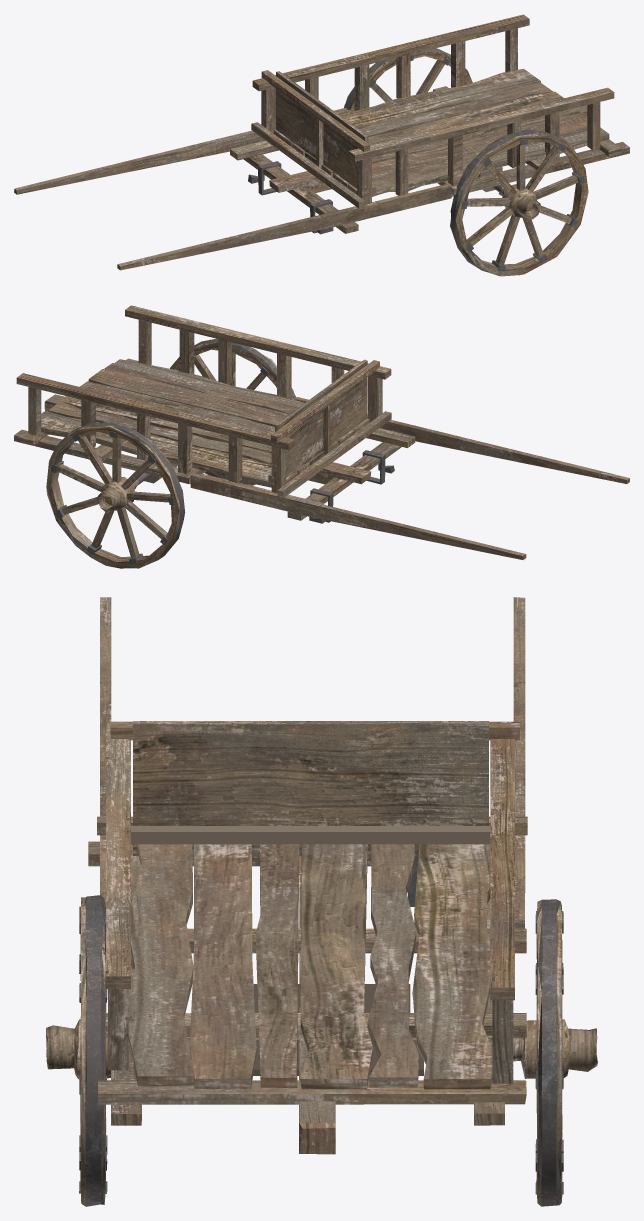
The model's file is SM_Cart_Small.fbx.
3 renders of one model, top to bottom at view 1: azimuth 30°, elevation 25°; view 2: azimuth 150°, elevation 25°; view 3: azimuth 270°, elevation 25°, orthographic. The views are drawn at different scales.
Visible parts, largest first — view 1: SM_Cart_Small_LOD0; view 2: SM_Cart_Small_LOD0; view 3: SM_Cart_Small_LOD0.
Part boxes in pixels (<box>): SM_Cart_Small_LOD0: <box>14,14,629,276</box>; SM_Cart_Small_LOD0: <box>14,305,629,568</box>; SM_Cart_Small_LOD0: <box>46,597,597,1206</box>.
Bounding box in the file's own units: 328 × 149 × 98.37.
